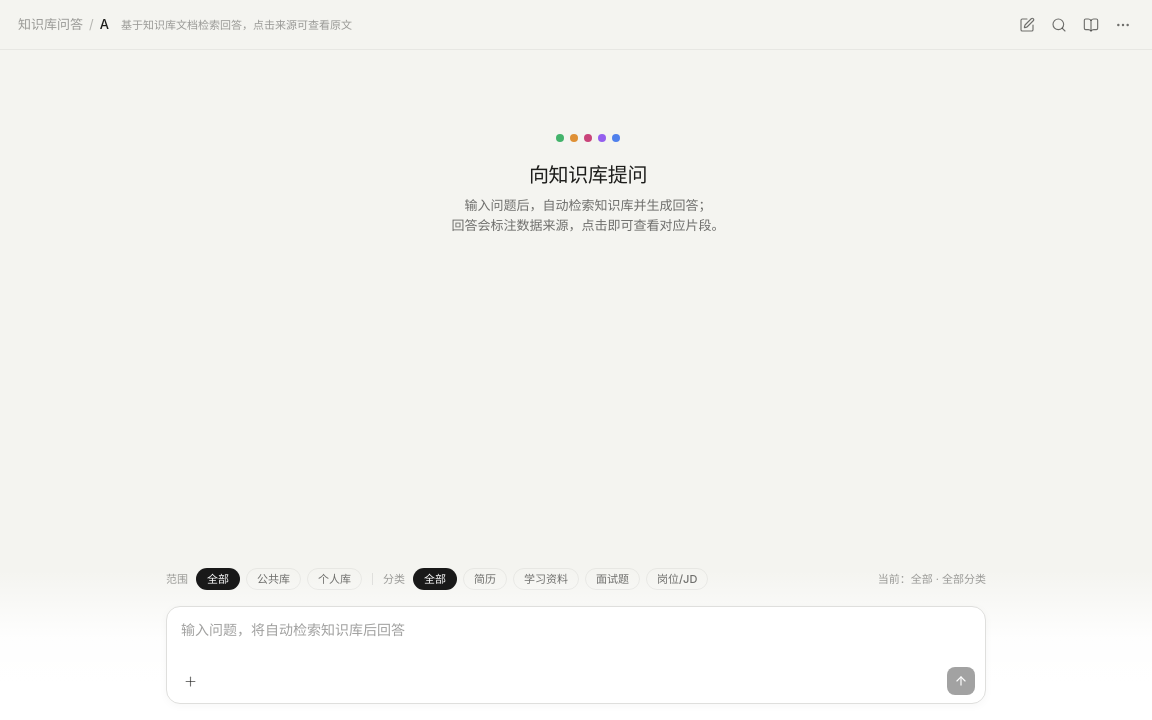
it: KnowledgePage 检索范围 › 范围与分类正交：选公共库后再选面试题，两者同时保留
This screenshot has width=1152, height=720.
Click the button "公共库" at [274, 579], box [246,568,301,590]
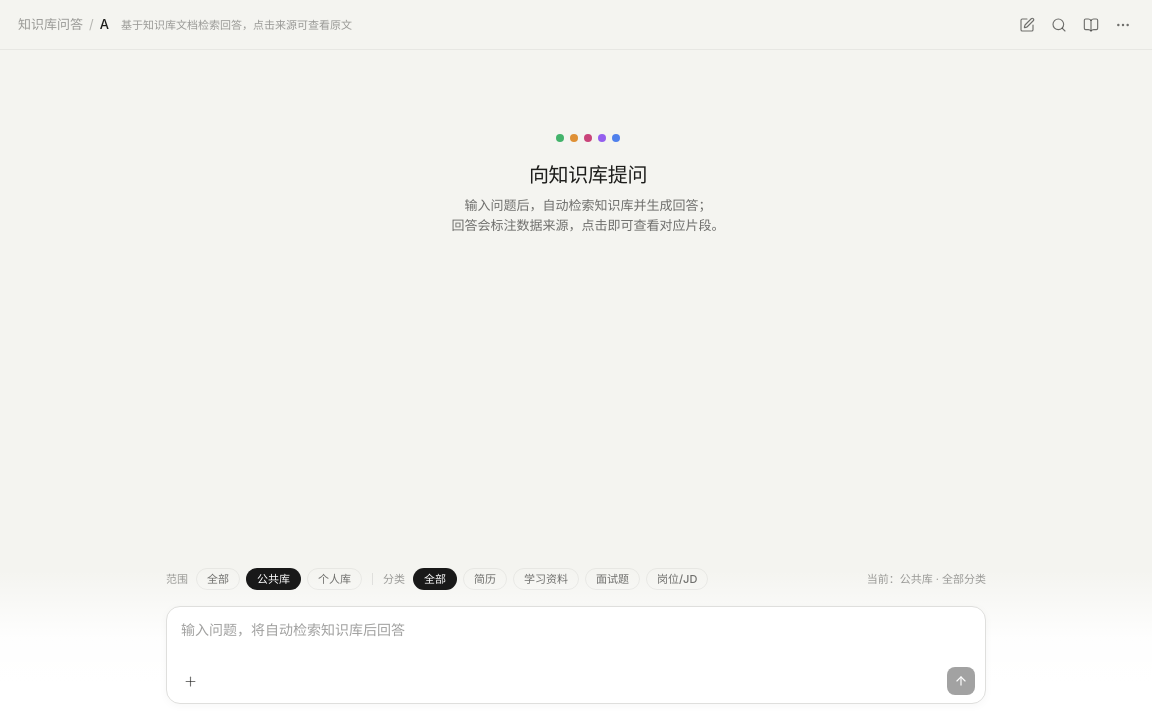
Expected: the text "当前：公共库 · 全部分类" is shown, [867,570,986,587]
Click the button "面试题" at [612, 579], box [585,568,640,590]
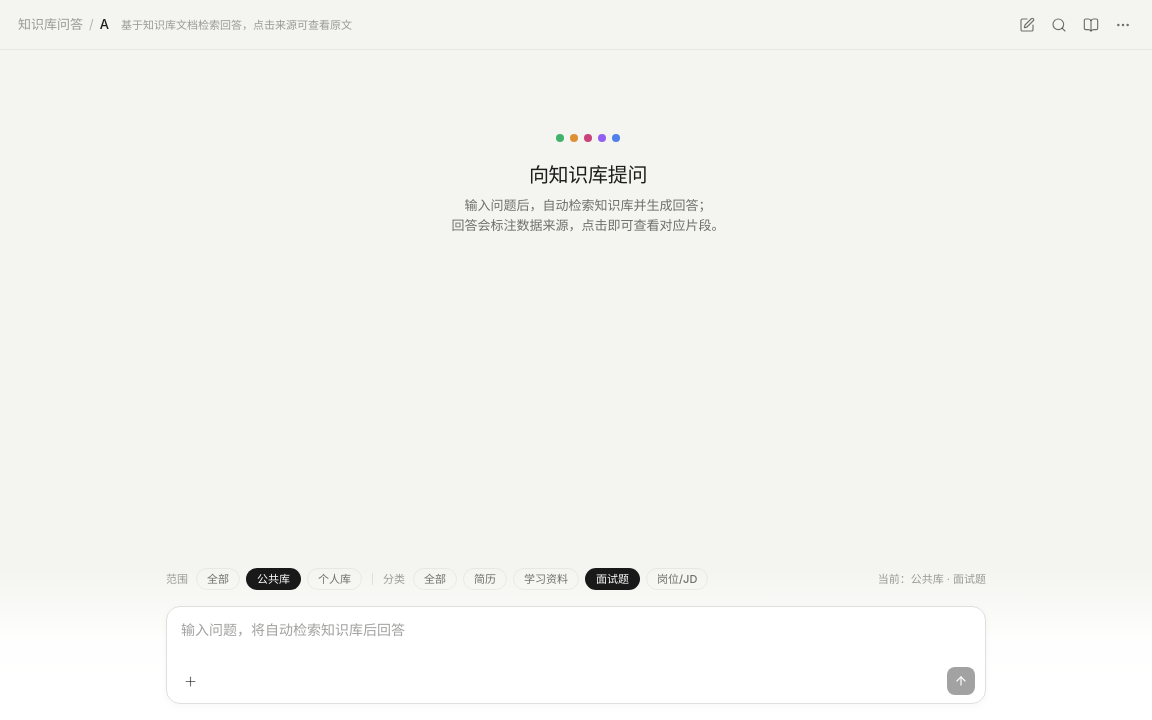
Expected: the text "当前：公共库 · 面试题" is shown, [878,570,986,587]
